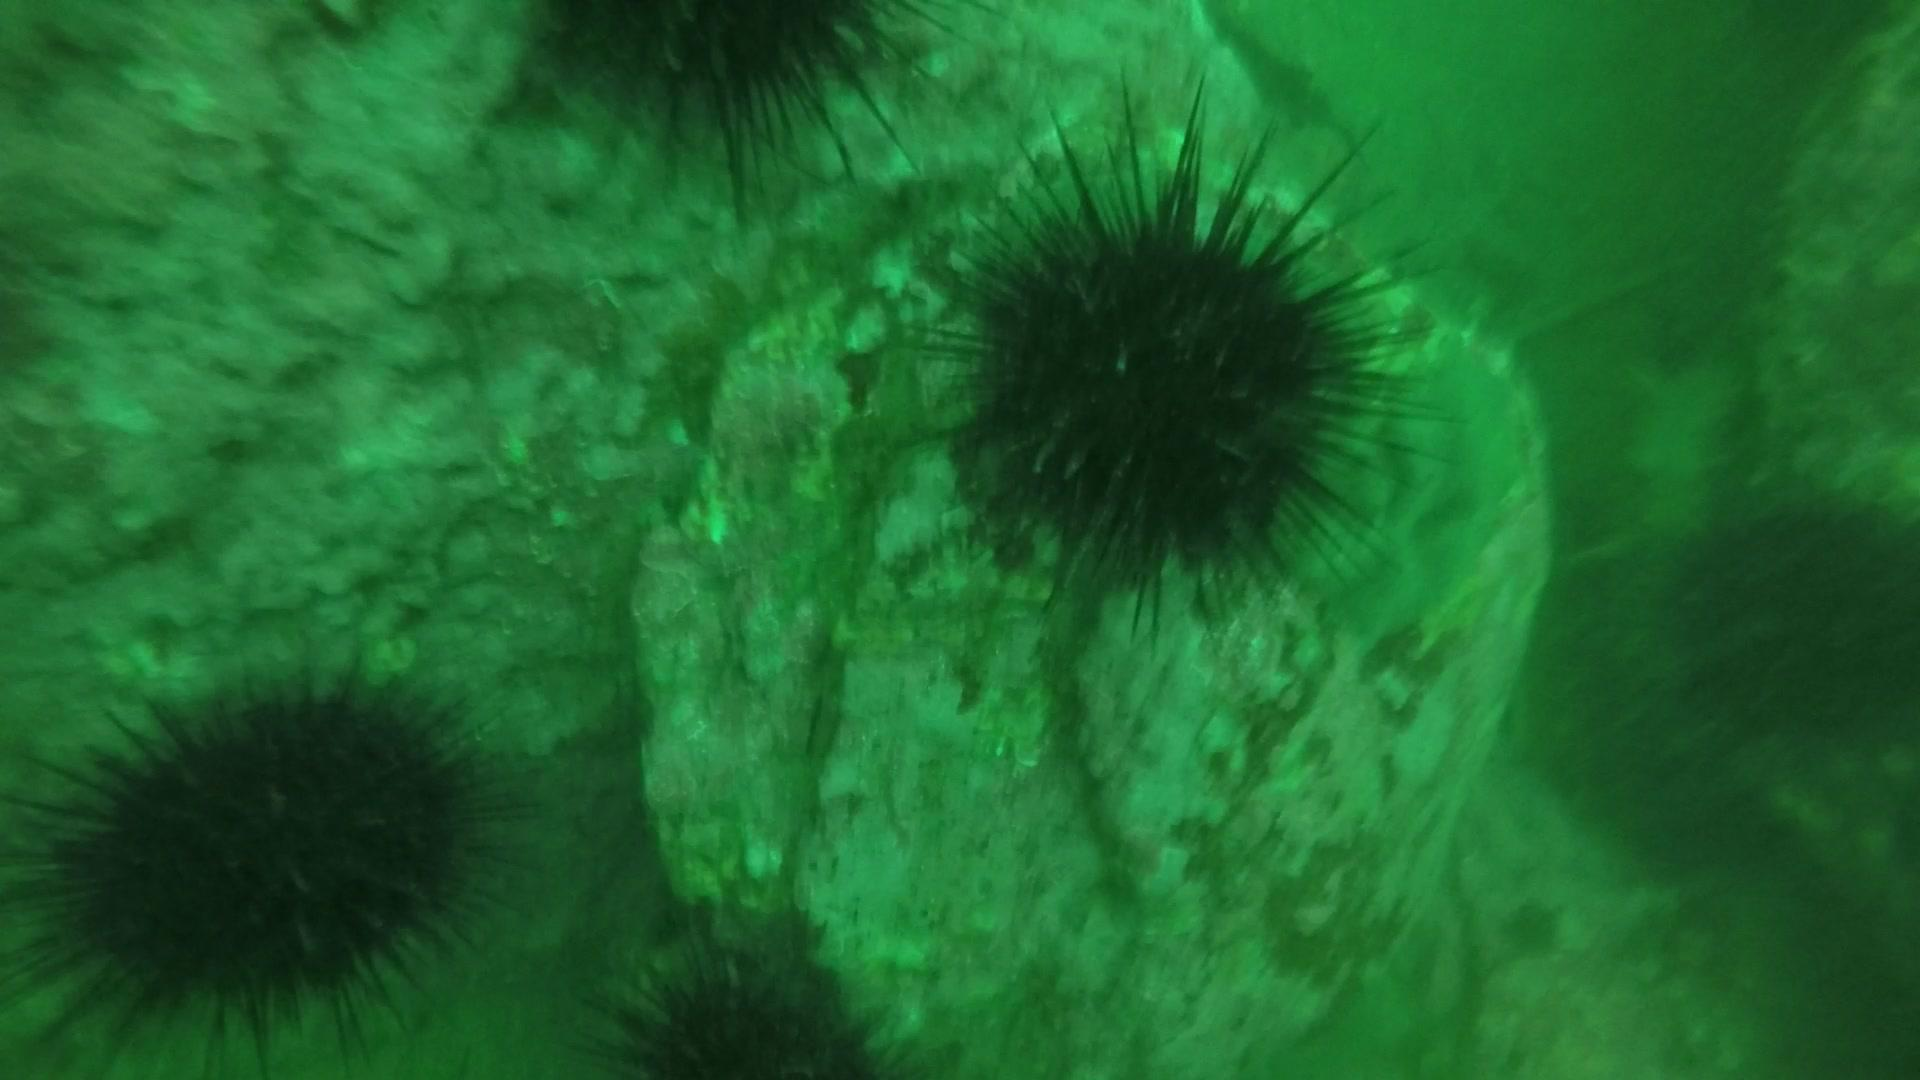urchin: (964, 129, 1414, 629), (29, 653, 498, 1048), (498, 3, 918, 186), (584, 902, 901, 1080)
